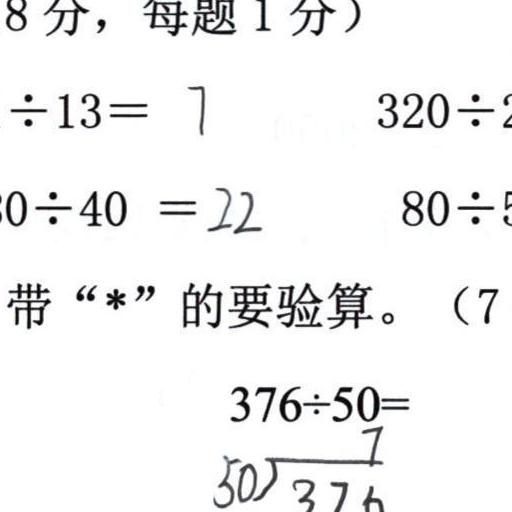ans: (202, 179, 261, 235), (181, 76, 209, 135)
